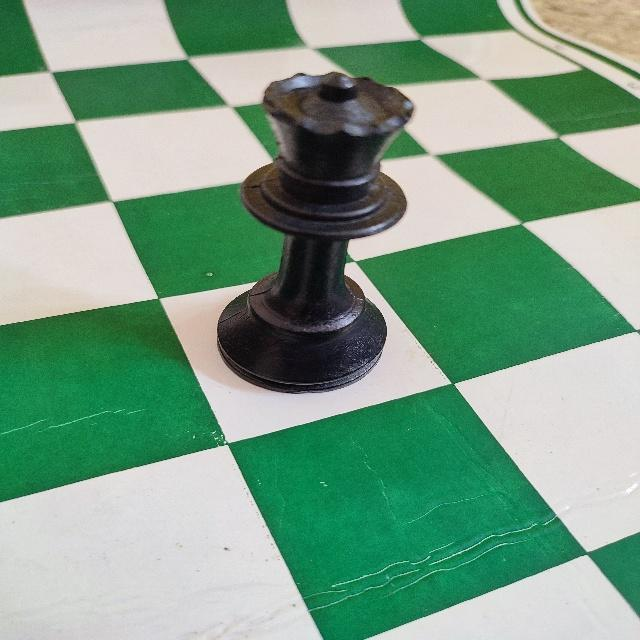Queen: (211, 66, 416, 396)
